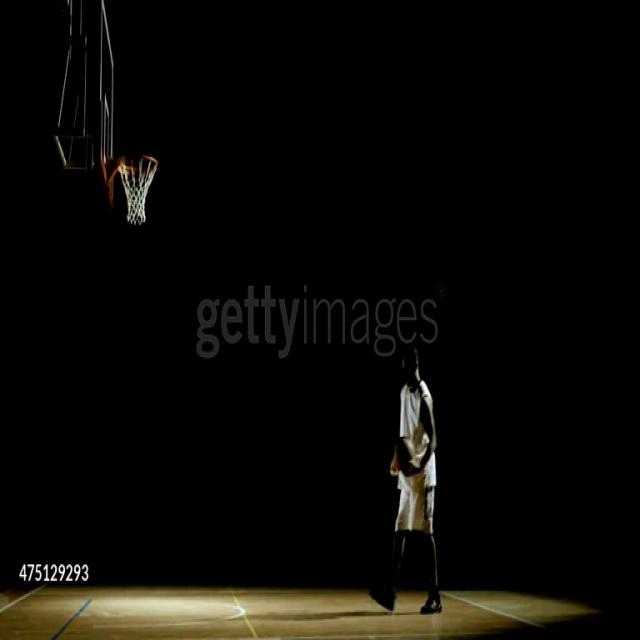ball: (395, 436, 422, 480)
